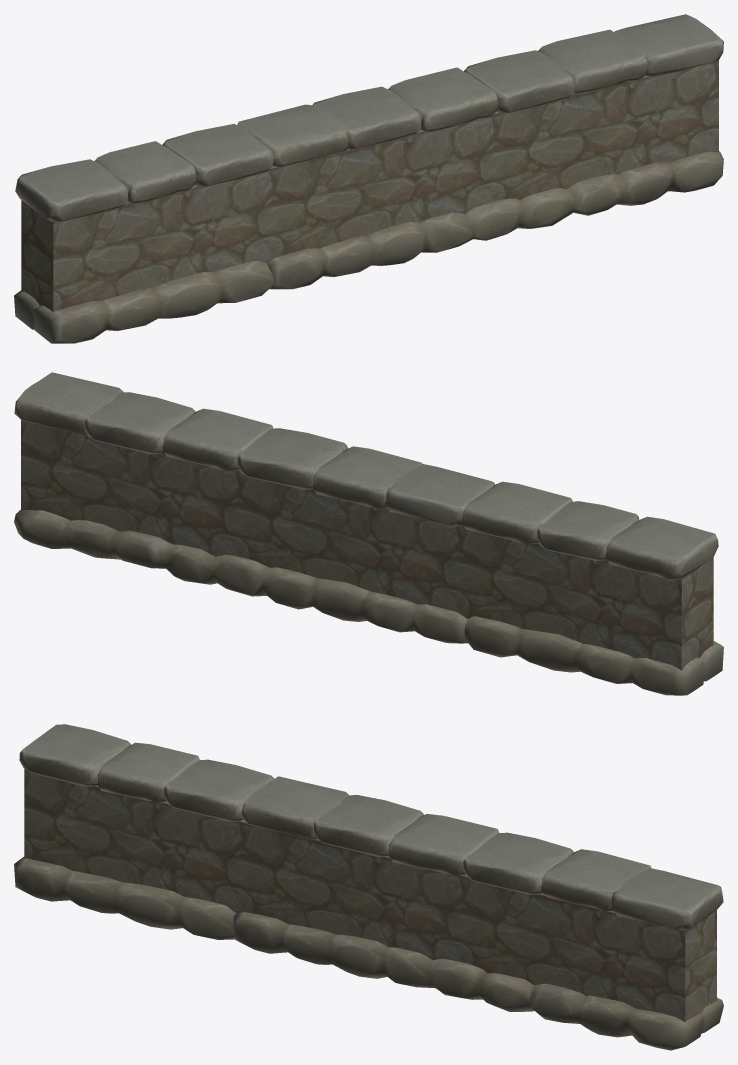
Rendered from SM_FW01_Ruins_Int_Trim_B_6m_01.fbx.
3 views of the same model, one above another, from view 1: azimuth 30°, elevation 25°; view 2: azimuth 150°, elevation 25°; view 3: azimuth 330°, elevation 25° (orthographic).
Parts seen in each view (by area): view 1: SM_FW01_Ruins_Int_Trim_B_6m_01_LOD0, SM_FW01_Ruins_Int_Trim_B_6m_01; view 2: SM_FW01_Ruins_Int_Trim_B_6m_01_LOD0, SM_FW01_Ruins_Int_Trim_B_6m_01; view 3: SM_FW01_Ruins_Int_Trim_B_6m_01_LOD0, SM_FW01_Ruins_Int_Trim_B_6m_01.
Boxes of the visible parts, x1,y1,x2,y2 form: SM_FW01_Ruins_Int_Trim_B_6m_01_LOD0: (14,14,723,343); SM_FW01_Ruins_Int_Trim_B_6m_01: (21,60,718,312); SM_FW01_Ruins_Int_Trim_B_6m_01_LOD0: (14,372,723,695); SM_FW01_Ruins_Int_Trim_B_6m_01: (21,420,713,670); SM_FW01_Ruins_Int_Trim_B_6m_01_LOD0: (14,724,723,1050); SM_FW01_Ruins_Int_Trim_B_6m_01: (24,769,716,1033).
Size of what is drawn, in the model's own units: 6.11 by 1.25 by 0.7663.
